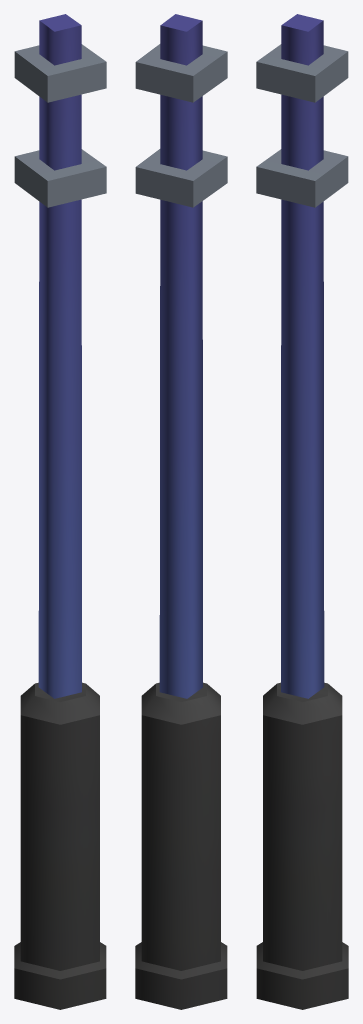
File: SignHolder_3_C.glb
The picture shows the model from 3 angles, left to right: view 1: azimuth 30°, elevation 25°; view 2: azimuth 150°, elevation 25°; view 3: azimuth 330°, elevation 25°; orthographic projection.
Visible parts, largest first — view 1: SignHolder_3_C; view 2: SignHolder_3_C; view 3: SignHolder_3_C.
Boxes of the visible parts, x1,y1,x2,y2 form: SignHolder_3_C: (14,14,106,1009); SignHolder_3_C: (135,14,227,1009); SignHolder_3_C: (256,14,348,1009).
Bounding box in the file's own units: 0.2806 × 2.81 × 0.243.
2 materials, 2 textured.
